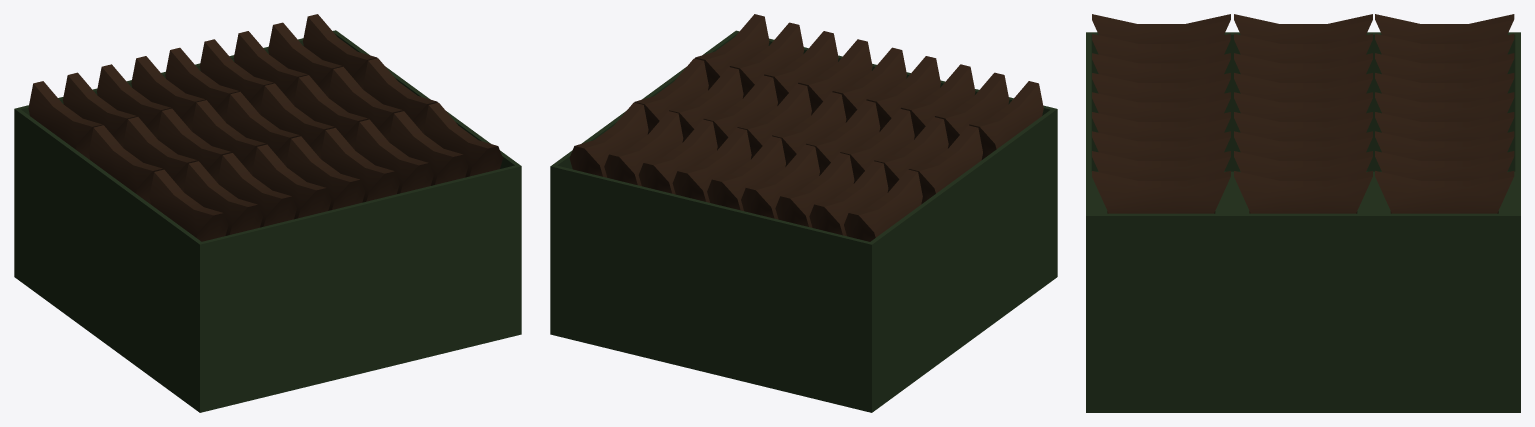
File: MRE_Box.fbx
3 views of the same model, side by side, from view 1: azimuth 30°, elevation 25°; view 2: azimuth 150°, elevation 25°; view 3: azimuth 270°, elevation 25° (orthographic). The views are drawn at different scales.
Parts seen in each view (by area): view 1: MRE_Box; view 2: MRE_Box; view 3: MRE_Box.
Boxes of the visible parts, x1=… form: MRE_Box: x1=14, y1=14, x2=521, y2=412; MRE_Box: x1=550, y1=14, x2=1057, y2=412; MRE_Box: x1=1086, y1=14, x2=1520, y2=412.
Bounding box in the file's own units: 200 × 114 × 200.
